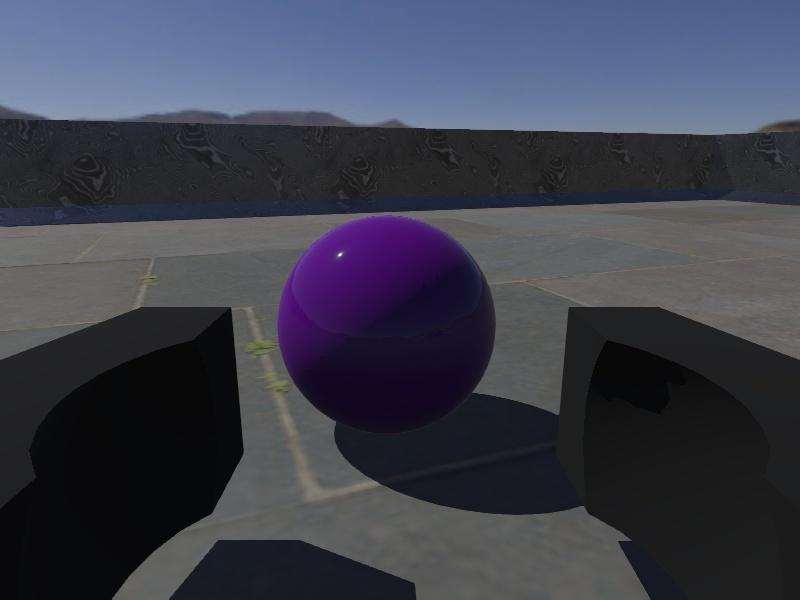violet ball: (277, 213, 498, 433)
